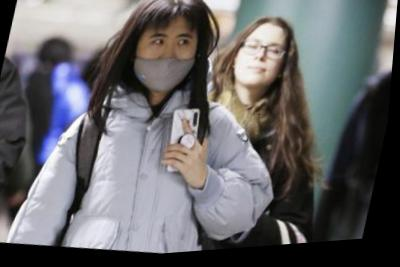NONE: (232, 33, 291, 96)
WRONG: (129, 25, 203, 100)
